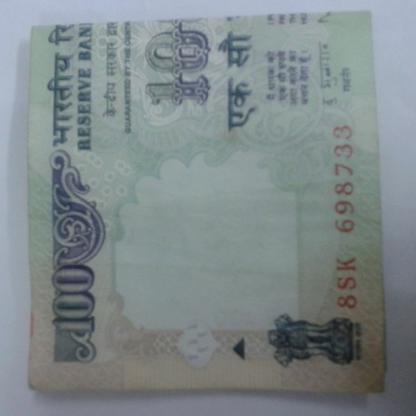Old100Front: (26, 8, 389, 396)
